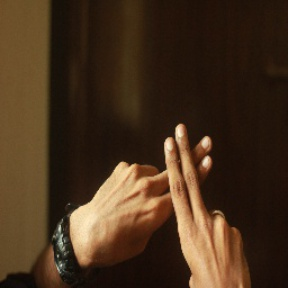F: (132, 111, 235, 247)
